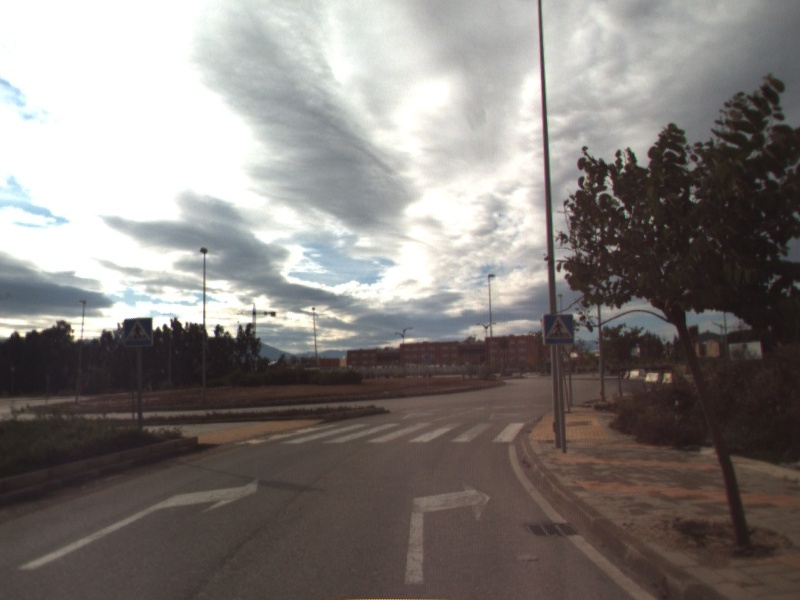RIGHT: (17, 474, 262, 572), (402, 479, 493, 587)
